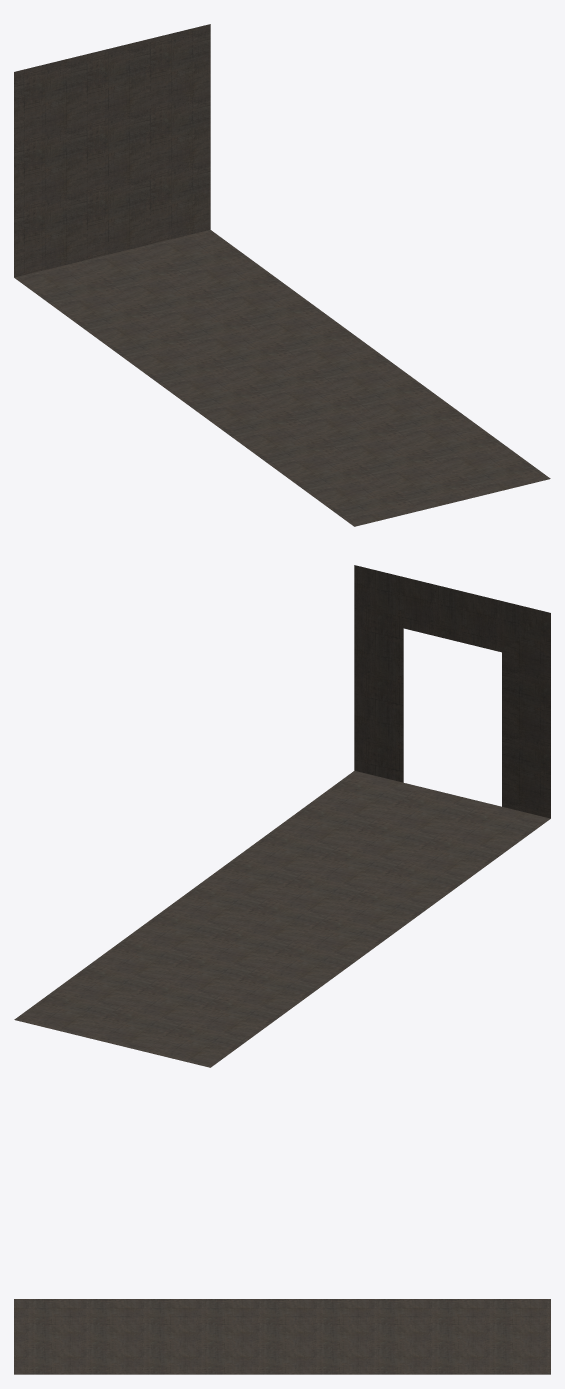
File: WarehouseMidLoading.gltf
3 renders of one model, top to bottom at view 1: azimuth 30°, elevation 25°; view 2: azimuth 150°, elevation 25°; view 3: azimuth 270°, elevation 25°, orthographic. The views are drawn at different scales.
Visible parts, largest first — view 1: WarehouseMidLoading; view 2: WarehouseMidLoading; view 3: WarehouseMidLoading.
Boxes of the visible parts, x1,y1,x2,y2 form: WarehouseMidLoading: (14, 24, 550, 526); WarehouseMidLoading: (14, 565, 550, 1067); WarehouseMidLoading: (14, 1299, 550, 1374).
Bounding box in the file's own units: 3.98 × 4.98 × 11.94.
1 material, 1 textured.
